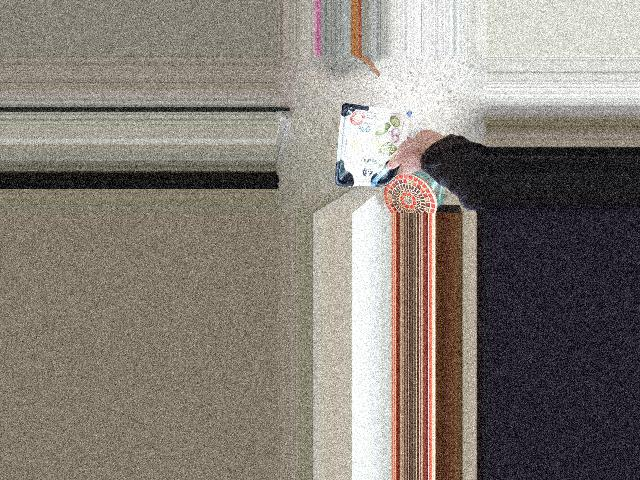cheese: (352, 103, 436, 185)
